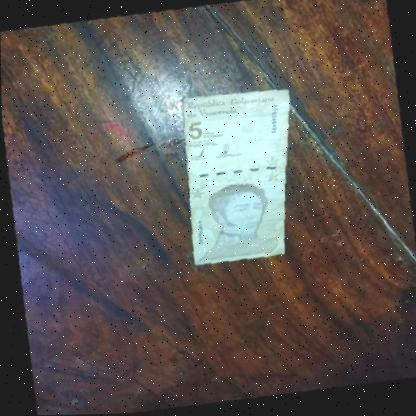five-front-vef: (164, 79, 316, 272)
